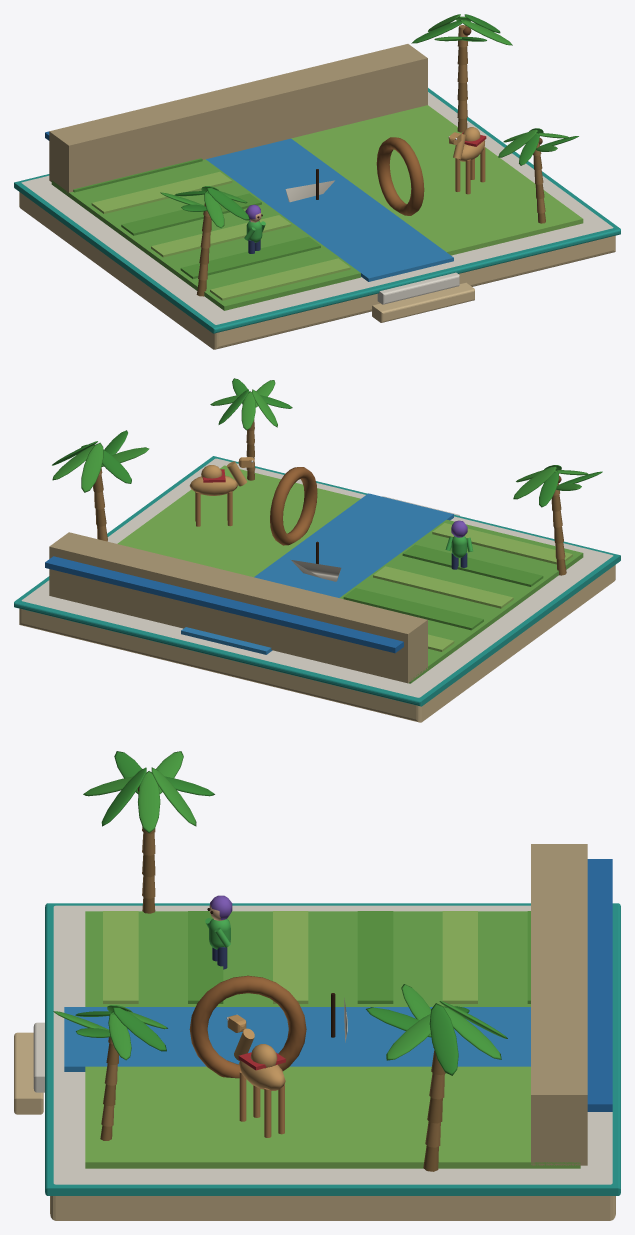
File: nileValley.glb
3 renders of one model, top to bottom at view 1: azimuth 30°, elevation 25°; view 2: azimuth 150°, elevation 25°; view 3: azimuth 270°, elevation 25°, orthographic. The views are drawn at different scales.
Parts seen in each view (by area): view 1: part_000, part_002; view 2: part_000, part_002; view 3: part_000.
Boxes of the visible parts, bbox=[...] form: part_000: bbox=[14, 14, 620, 349]; part_002: bbox=[285, 169, 334, 202]; part_000: bbox=[14, 378, 620, 722]; part_002: bbox=[291, 541, 341, 581]; part_000: bbox=[14, 751, 620, 1220].
Bounding box in the file's own units: 10.18 × 3.32 × 8.58.
